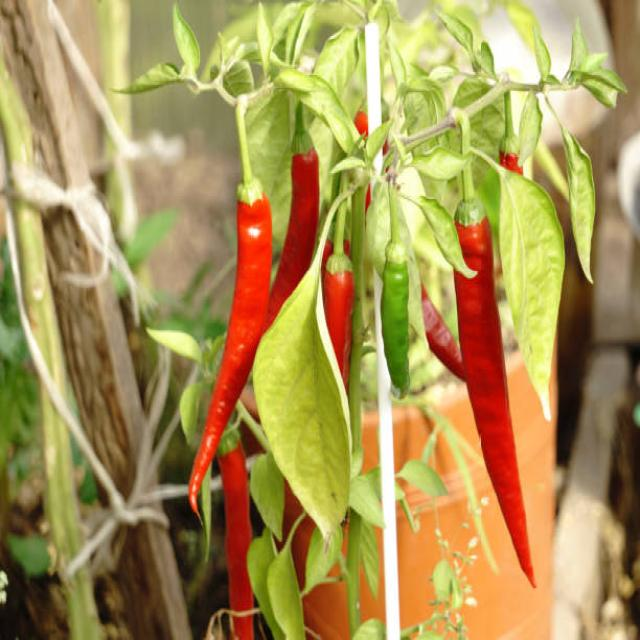Ripe: (449, 96, 539, 588), (181, 91, 275, 532), (270, 117, 324, 311), (222, 429, 264, 636), (324, 216, 359, 380)
Unripe: (378, 203, 415, 404)
